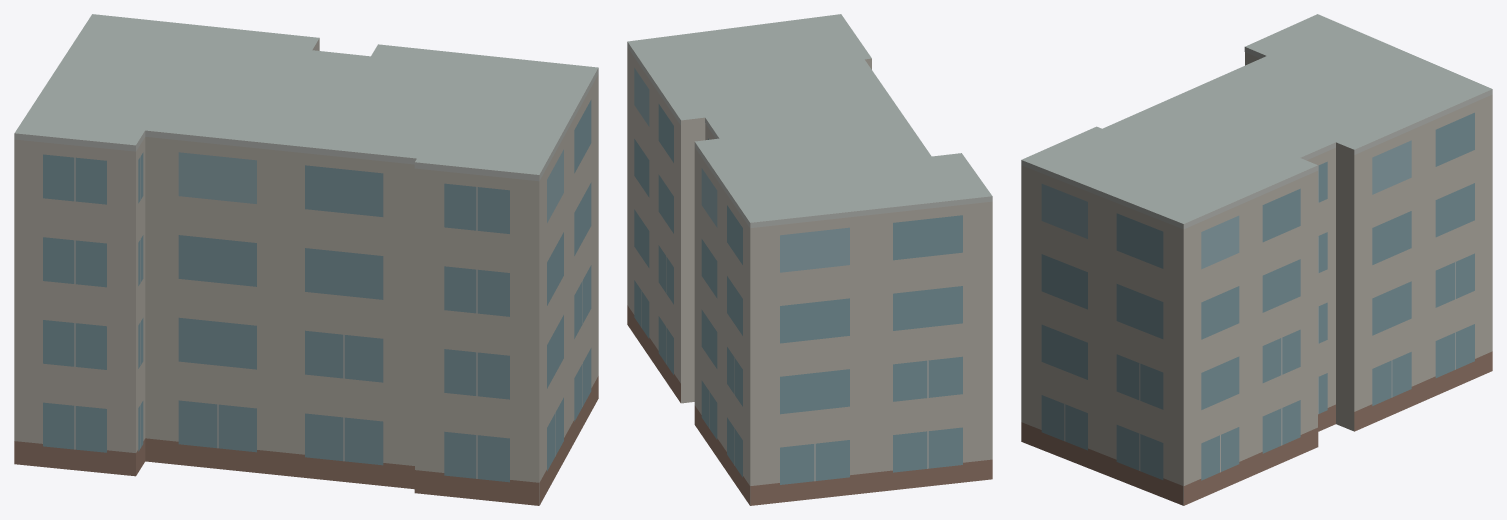
Rendered from survey-upis-32658665.glb.
3 views of the same model, side by side, from view 1: azimuth 30°, elevation 25°; view 2: azimuth 150°, elevation 25°; view 3: azimuth 270°, elevation 25° (orthographic). The views are drawn at different scales.
Parts seen in each view (by area): view 1: survey-upis-32658665.tmp; view 2: survey-upis-32658665.tmp; view 3: survey-upis-32658665.tmp.
Part boxes in pixels (x1,y1,x2,y2): survey-upis-32658665.tmp: (14, 14, 598, 505); survey-upis-32658665.tmp: (627, 14, 992, 505); survey-upis-32658665.tmp: (1021, 14, 1492, 505).
Size of the model in its own units: 20.65 by 12.91 by 19.58.
